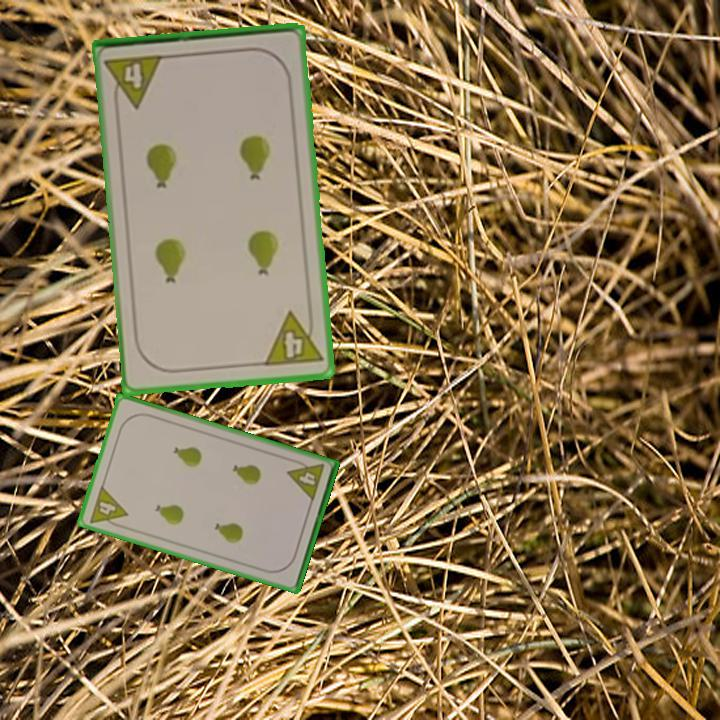4p: (260, 306, 325, 370), (101, 51, 167, 112), (86, 482, 131, 532), (284, 456, 327, 504)
